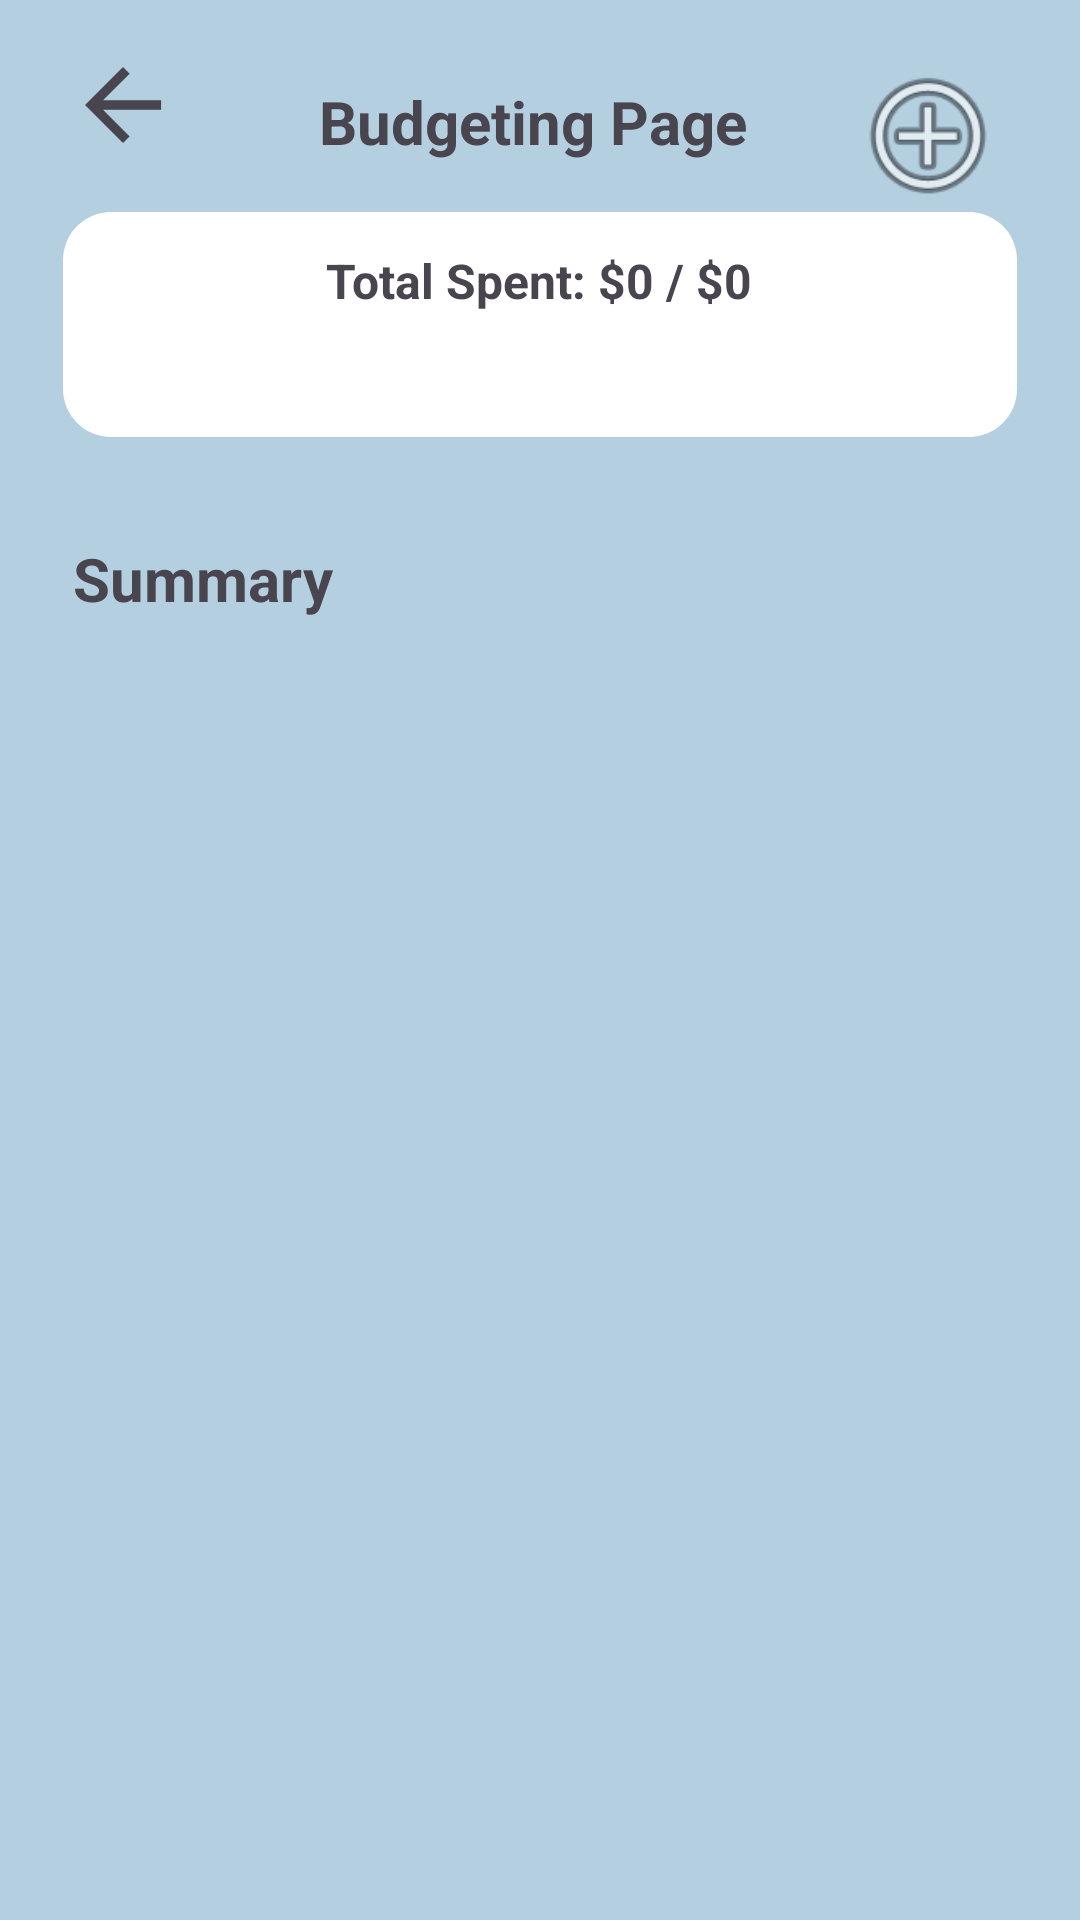

Icon bounding boxes for this 1080×1920 phone screenshot, format (x1, y1, x2, y2):
add: (870, 78, 986, 194)
